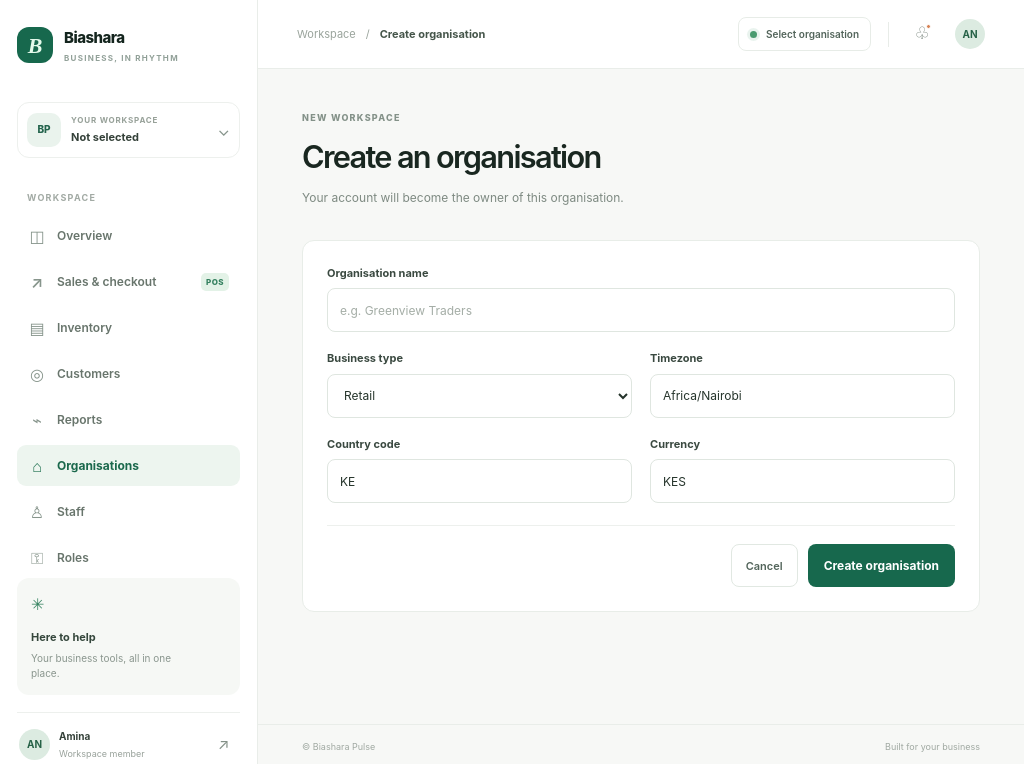
it: organisation management › creates an organisation, selects it, and opens its workspace
In the field labelled "Organisation name": (641, 310) top-left (327, 288), bottom-right (955, 332), type "Greenview Traders"
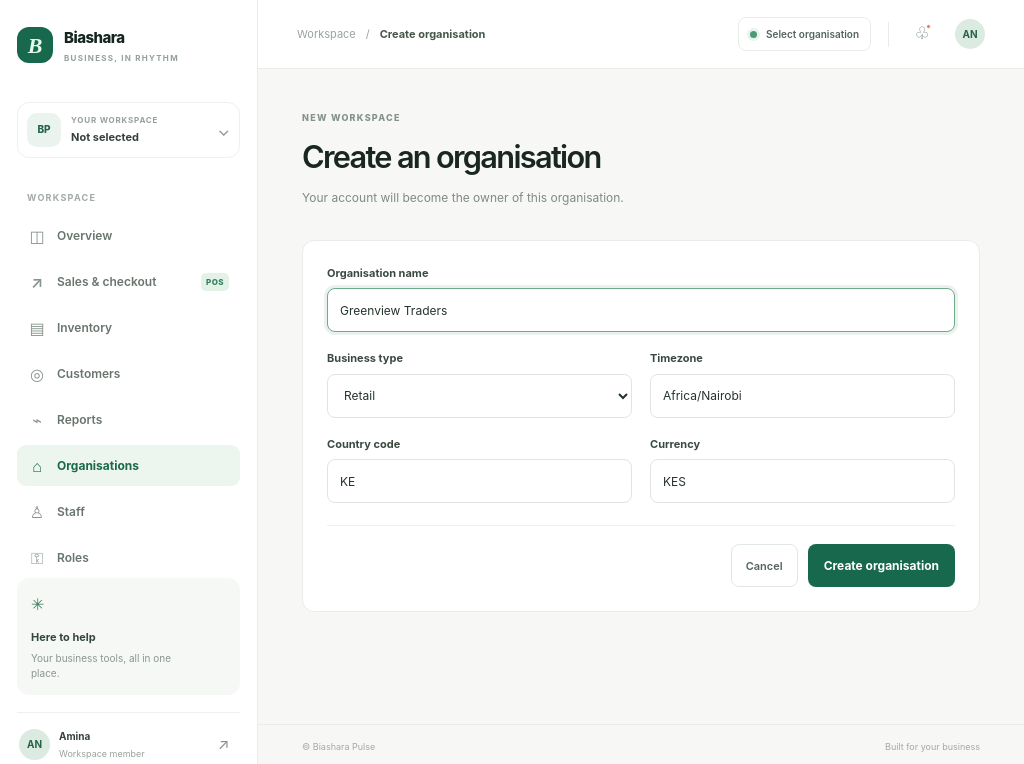
Click the button "Create organisation": click(881, 566) top-left (808, 544), bottom-right (955, 588)
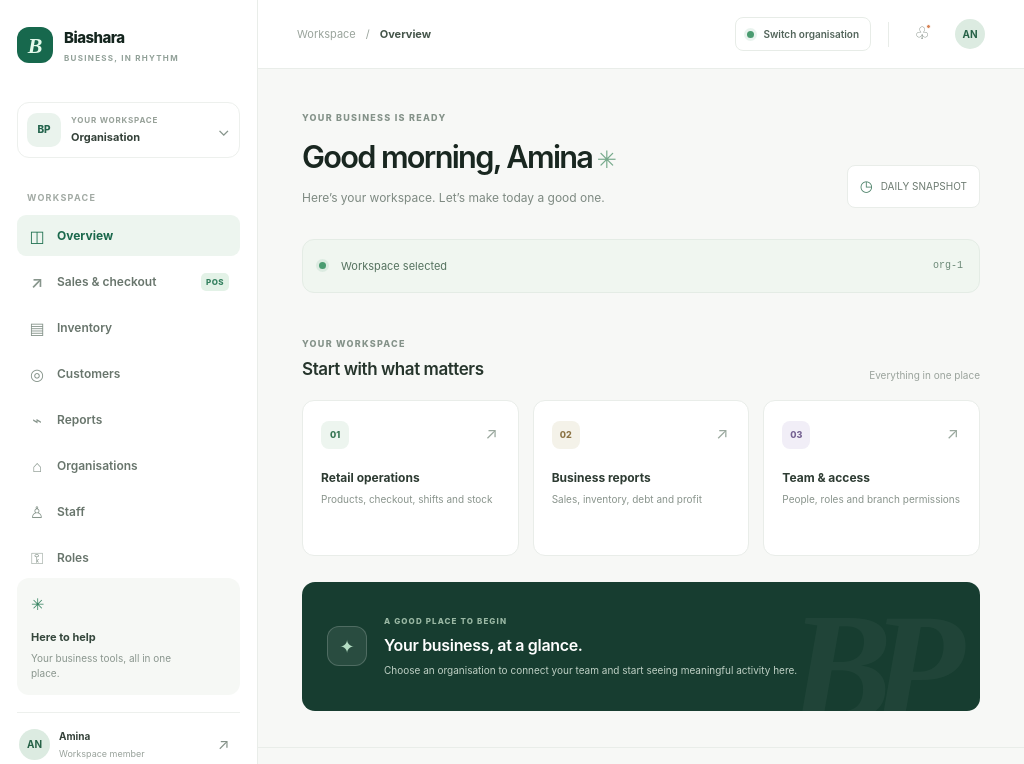
Check: the heading "Good morning, Amina ✳" is shown, box top-left (302, 134), bottom-right (615, 180)
Check: the text "org-1" is shown, box top-left (933, 258), bottom-right (963, 274)
